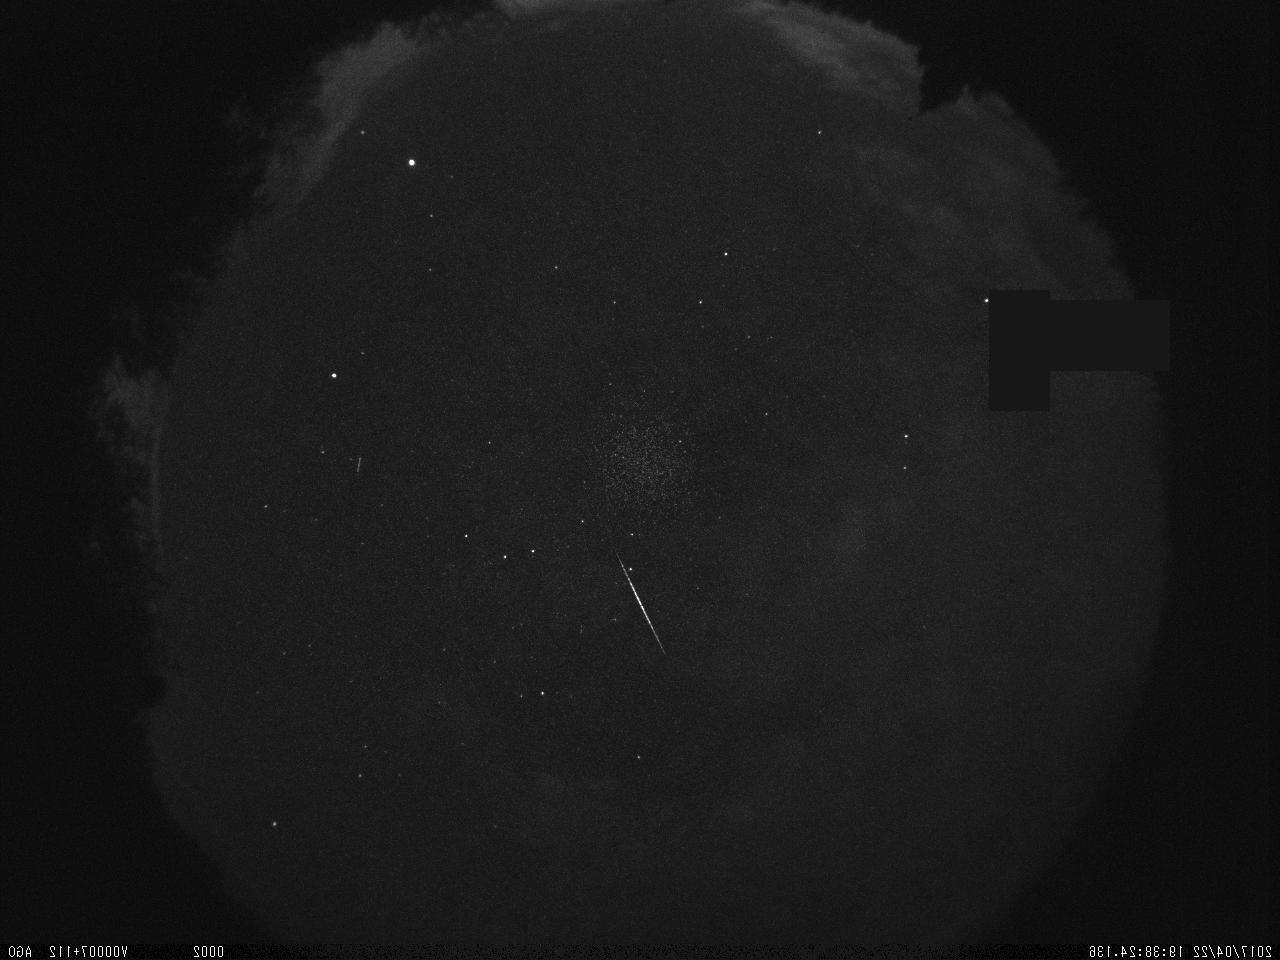meteor: (591, 505, 682, 698)
